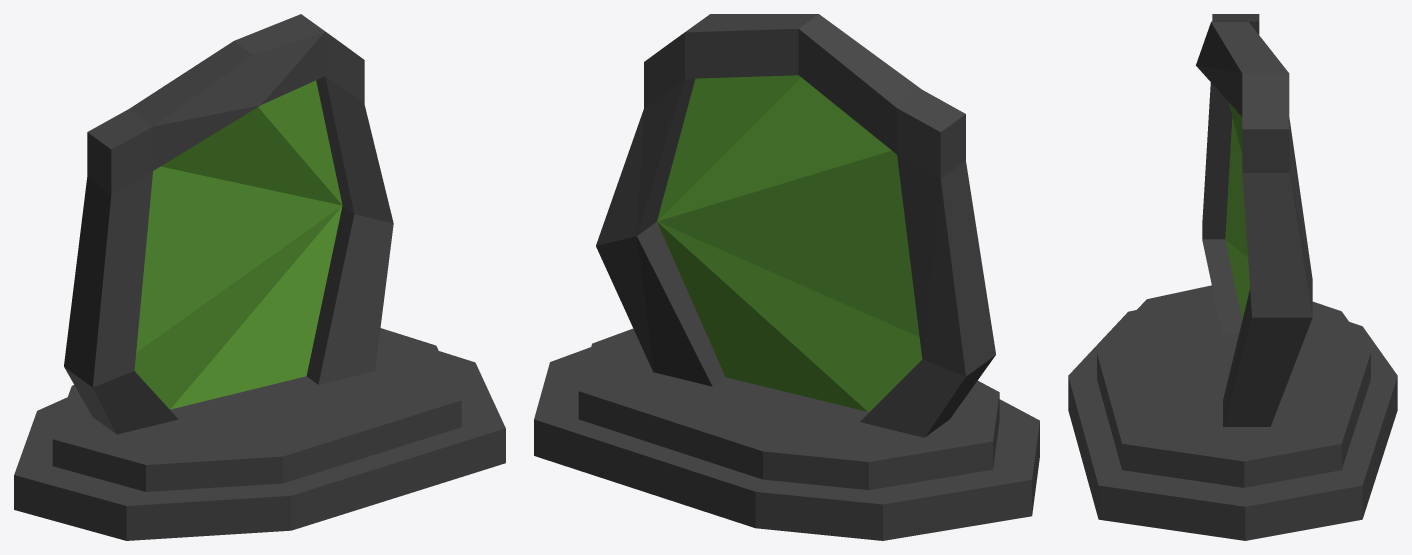
Rendered from greenPortal.dae.
The picture shows the model from 3 angles, left to right: view 1: azimuth 30°, elevation 25°; view 2: azimuth 150°, elevation 25°; view 3: azimuth 270°, elevation 25°; orthographic projection. The views are drawn at different scales.
Parts seen in each view (by area): view 1: Cube, Cube_001, Cube_002; view 2: Cube_002, Cube, Cube_001; view 3: Cube, Cube_001, Cube_002.
Boxes of the visible parts, x1=… form: Cube: x1=14, y1=328, x2=505, y2=540; Cube_001: x1=64, y1=14, x2=393, y2=434; Cube_002: x1=134, y1=80, x2=342, y2=409; Cube_002: x1=657, y1=75, x2=922, y2=411; Cube: x1=534, y1=328, x2=1039, y2=540; Cube_001: x1=596, y1=14, x2=995, y2=437; Cube: x1=1068, y1=285, x2=1397, y2=540; Cube_001: x1=1196, y1=14, x2=1312, y2=426; Cube_002: x1=1225, y1=102, x2=1249, y2=319.
Bounding box in the file's own units: 8.11 × 5.13 × 6.95.
